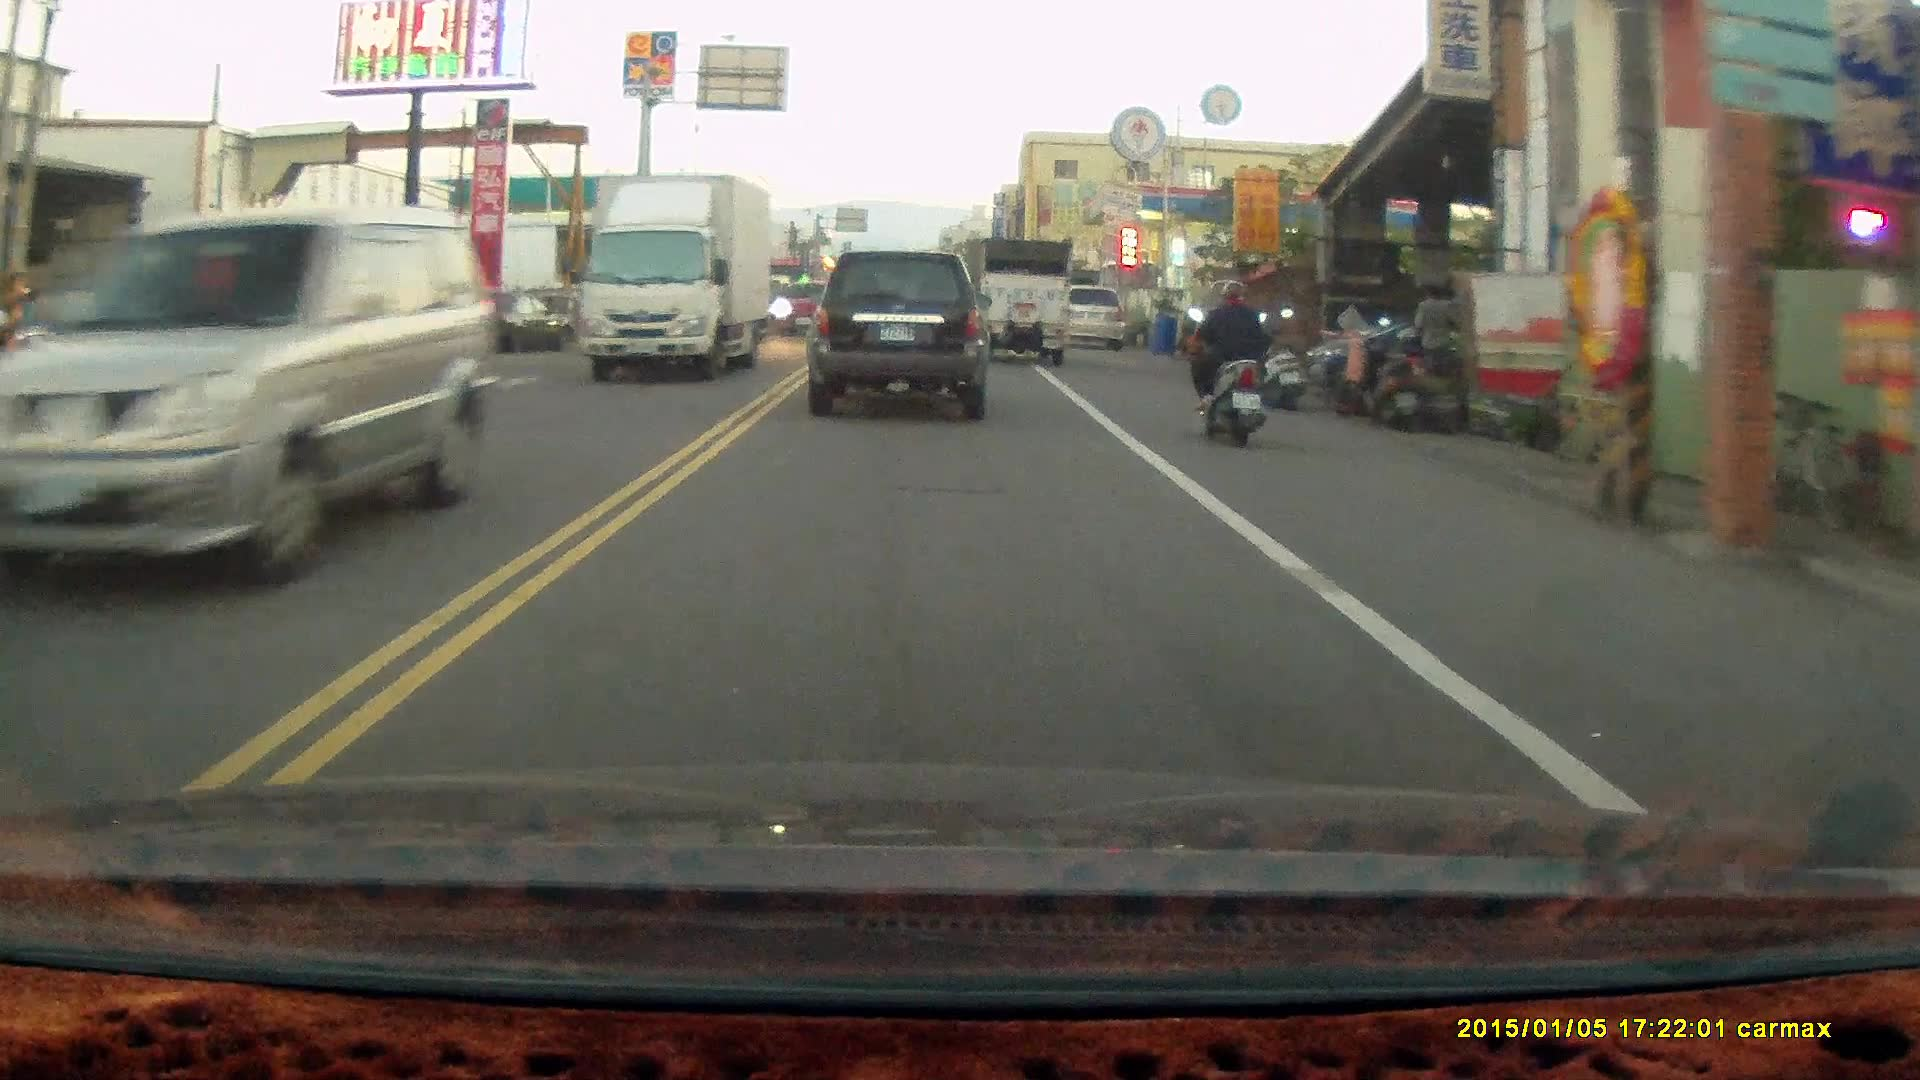pedestrian: (1411, 282, 1457, 409)
rider: (1182, 280, 1270, 450)
vehicle: (10, 204, 491, 584), (577, 176, 776, 386), (803, 251, 992, 425), (977, 237, 1070, 366)
